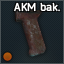AKM bakelite pistol grip: (0, 0, 64, 64)
